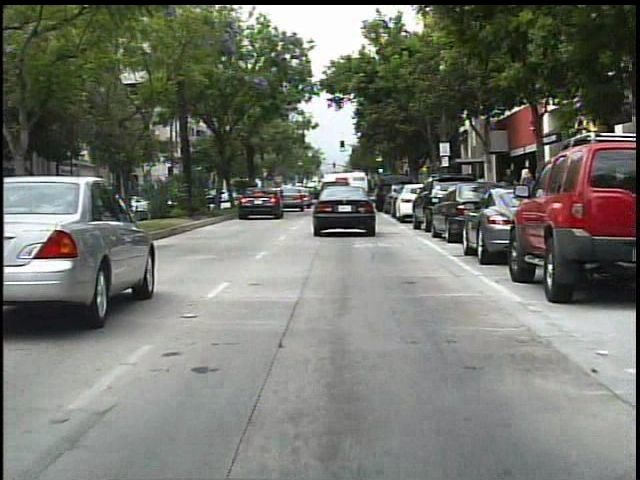person: (496, 159, 521, 221), (516, 163, 534, 189)
